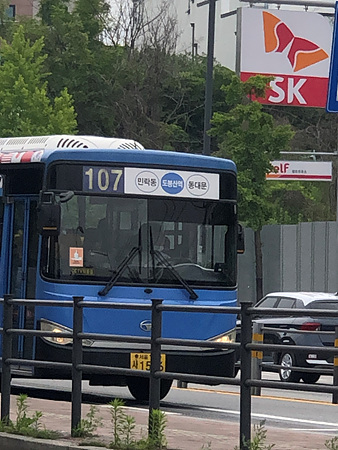bnum: (85, 167, 123, 190)
